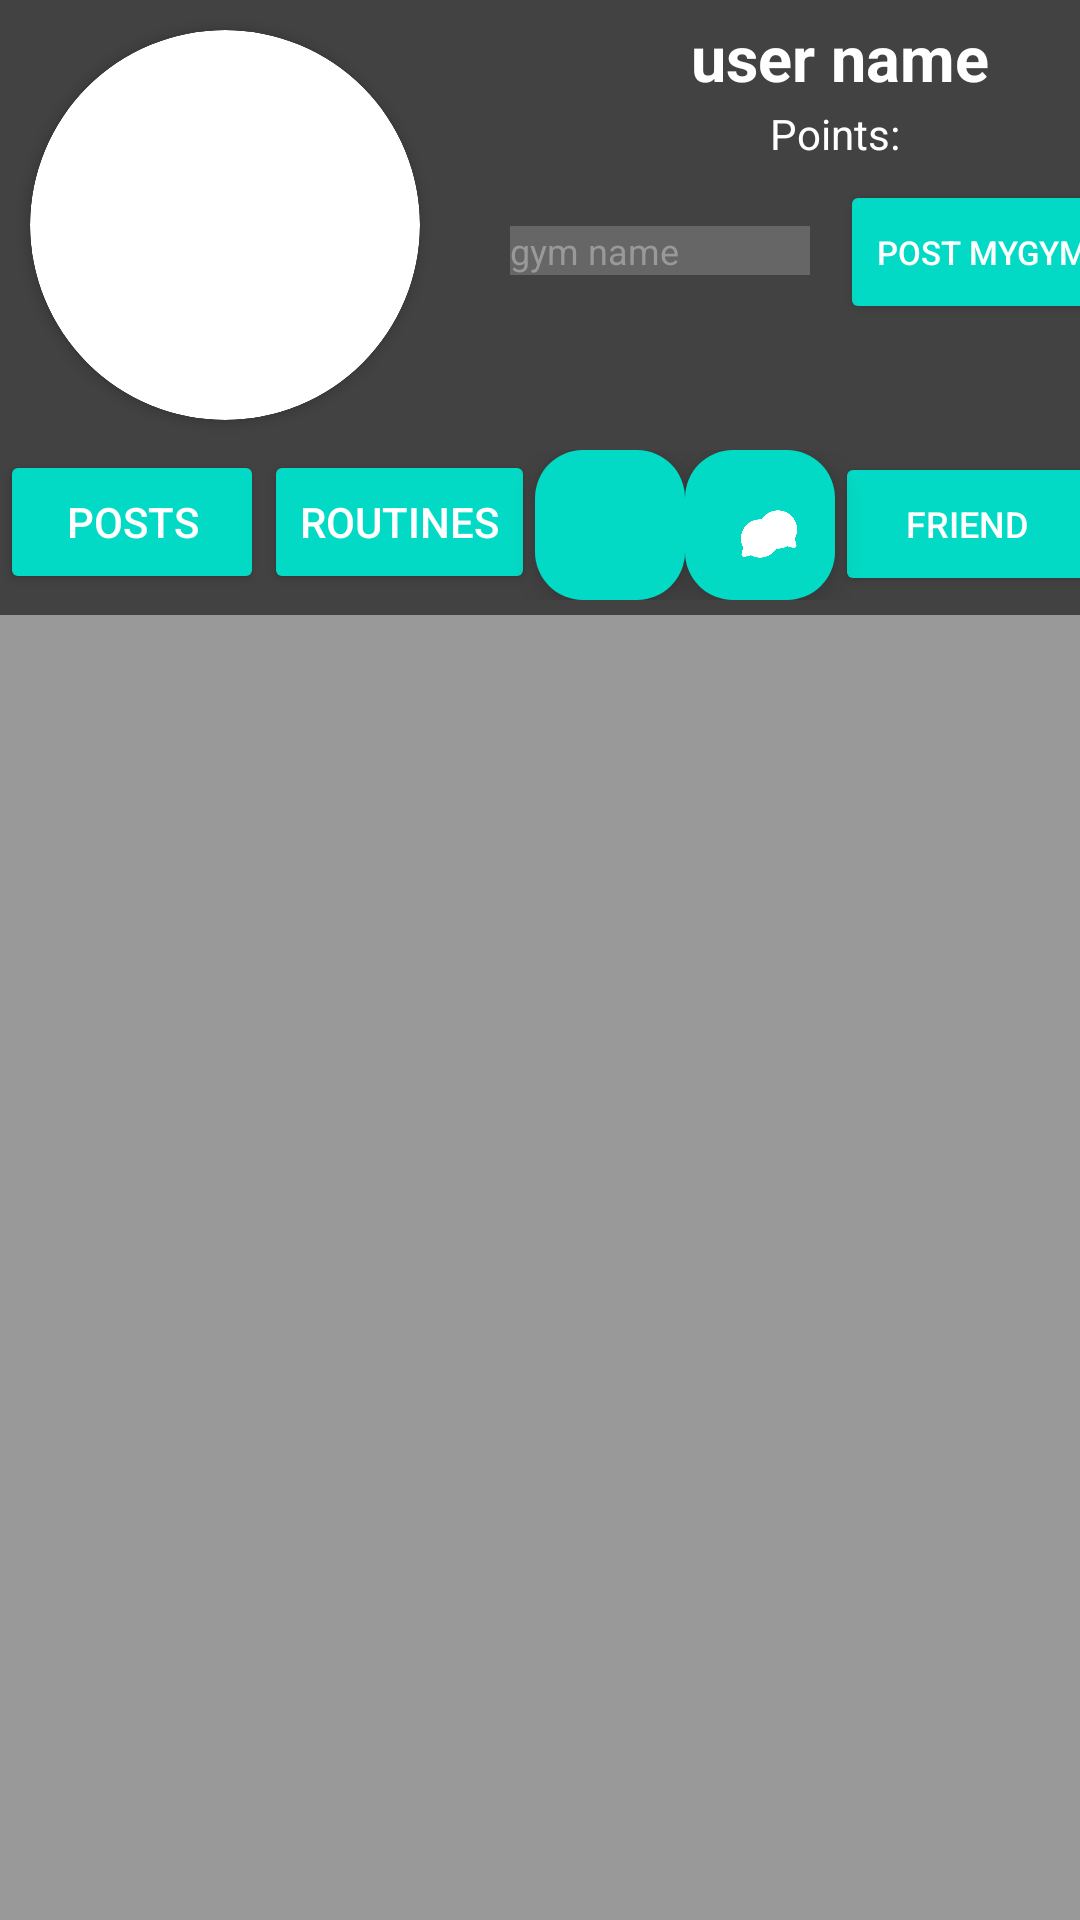

Point at icon controls on the screen. Image size 1080px×1920px, points as (x,y).
group chat: (760,525)
